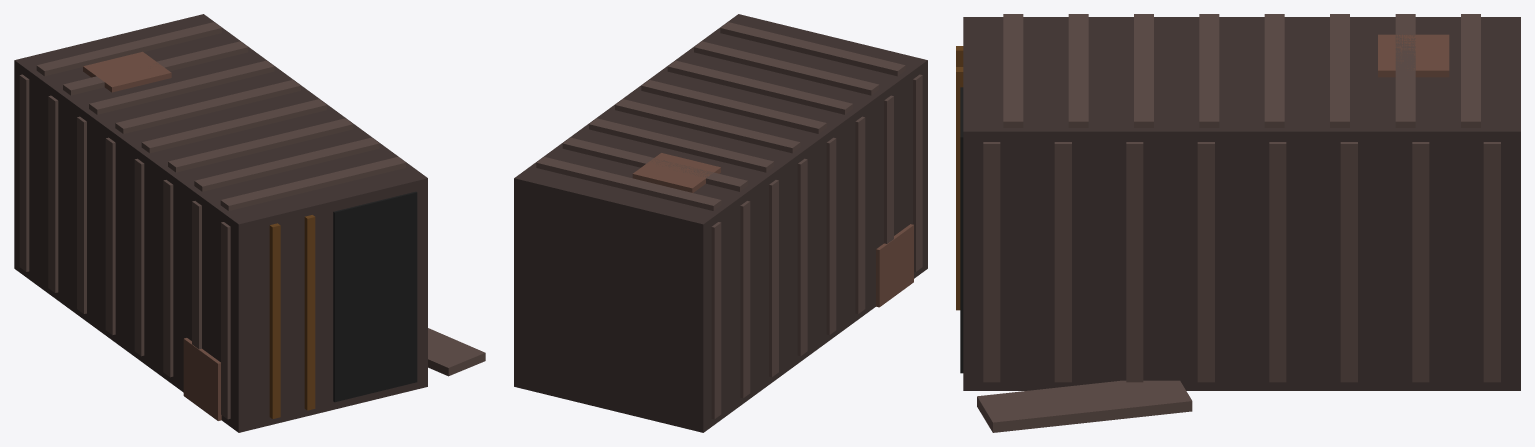
Rendered from ancient_container_medium_2.obj.
The picture shows the model from 3 angles, left to right: view 1: azimuth 30°, elevation 25°; view 2: azimuth 150°, elevation 25°; view 3: azimuth 270°, elevation 25°; orthographic projection. The views are drawn at different scales.
Visible parts, largest first — view 1: ancient_container_medium_2; view 2: ancient_container_medium_2; view 3: ancient_container_medium_2.
Part boxes in pixels (x1,y1,x2,y2): ancient_container_medium_2: [14, 14, 485, 432]; ancient_container_medium_2: [514, 14, 927, 432]; ancient_container_medium_2: [956, 14, 1520, 432].
Bounding box in the file's own units: 2.63 × 2.05 × 3.95.
